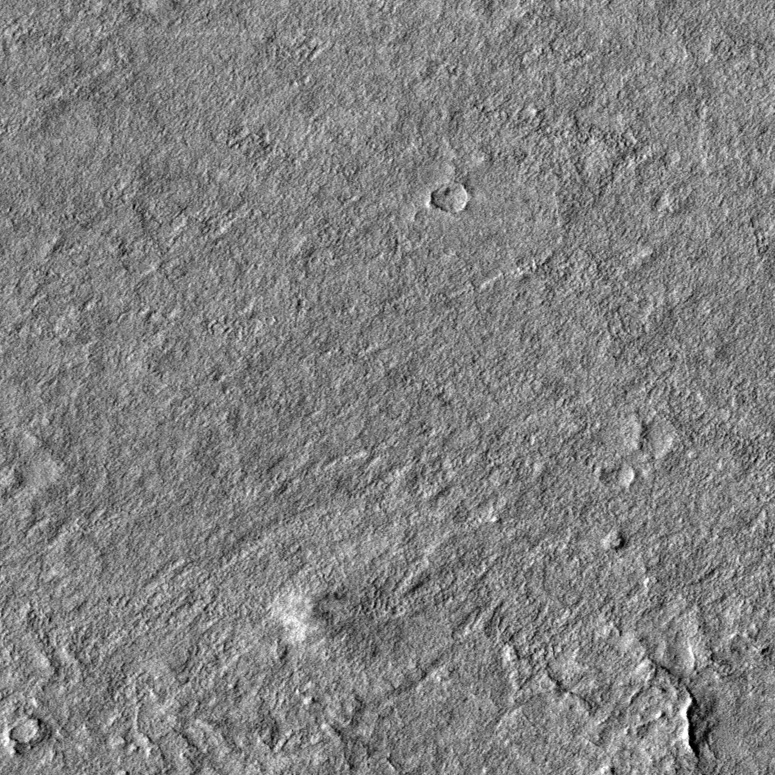dust_devil: (272, 585, 400, 665)
